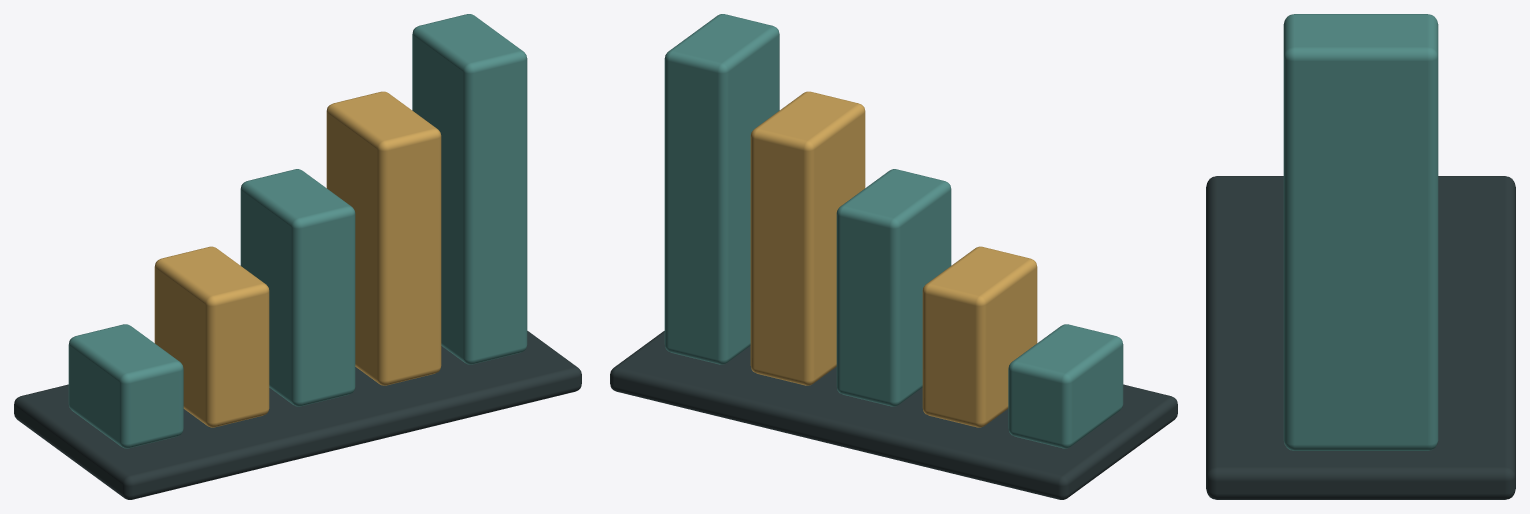
The model's file is bar-chart.glb.
3 views of the same model, side by side, from view 1: azimuth 30°, elevation 25°; view 2: azimuth 150°, elevation 25°; view 3: azimuth 270°, elevation 25° (orthographic). The views are drawn at different scales.
Visible parts, largest first — view 1: bar-chart; view 2: bar-chart; view 3: bar-chart.
Part boxes in pixels (x1,y1,x2,y2): bar-chart: (14,14,581,499); bar-chart: (610,14,1177,499); bar-chart: (1206,14,1515,499).
Bounding box in the file's own units: 1.6 × 1.09 × 0.7.
